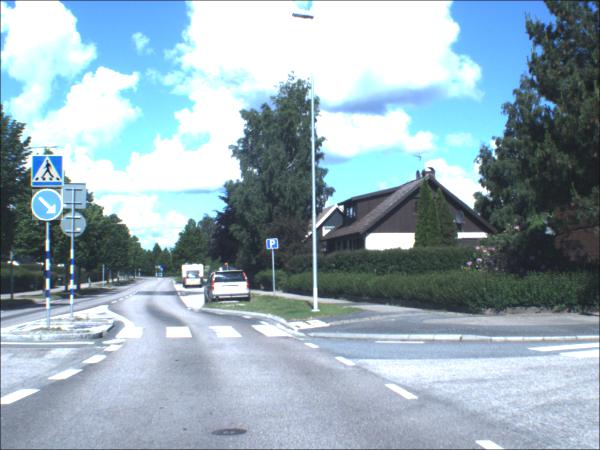PASS_RIGHT_SIDE: (33, 190, 65, 222), (161, 269, 165, 273)
PEDESTRIAN_CROSSING: (34, 157, 66, 189), (159, 267, 163, 270)
